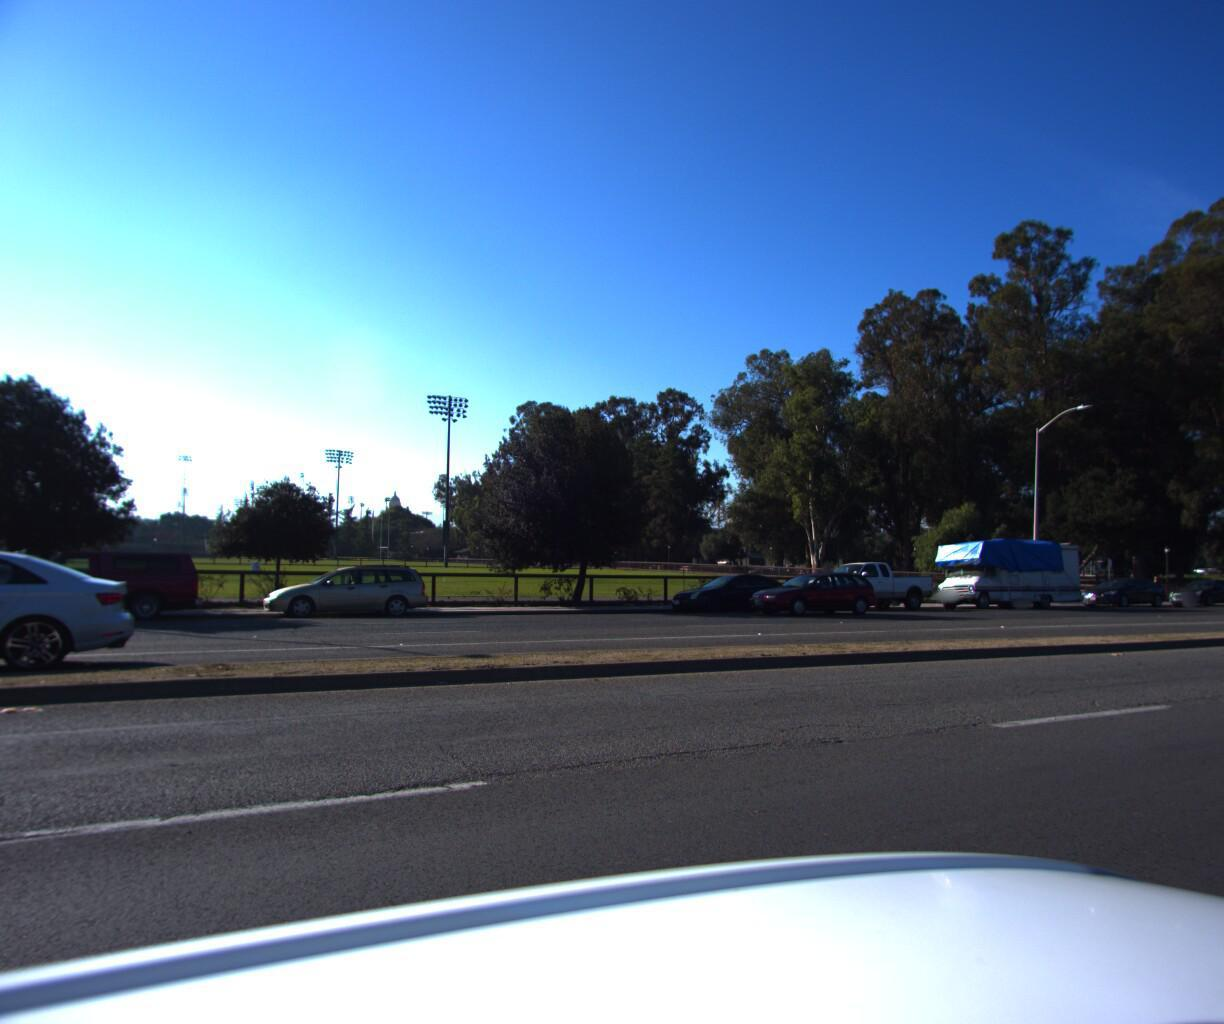car: (254, 561, 436, 624), (789, 554, 941, 613), (734, 568, 883, 619), (661, 573, 800, 617), (1070, 573, 1171, 608), (1158, 575, 1224, 606)
other_vehicle: (924, 529, 1088, 611)
